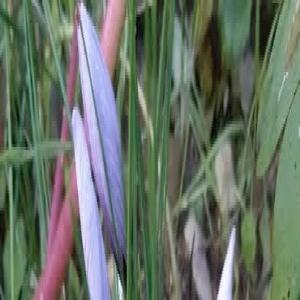Saffron: (74, 0, 140, 281)
